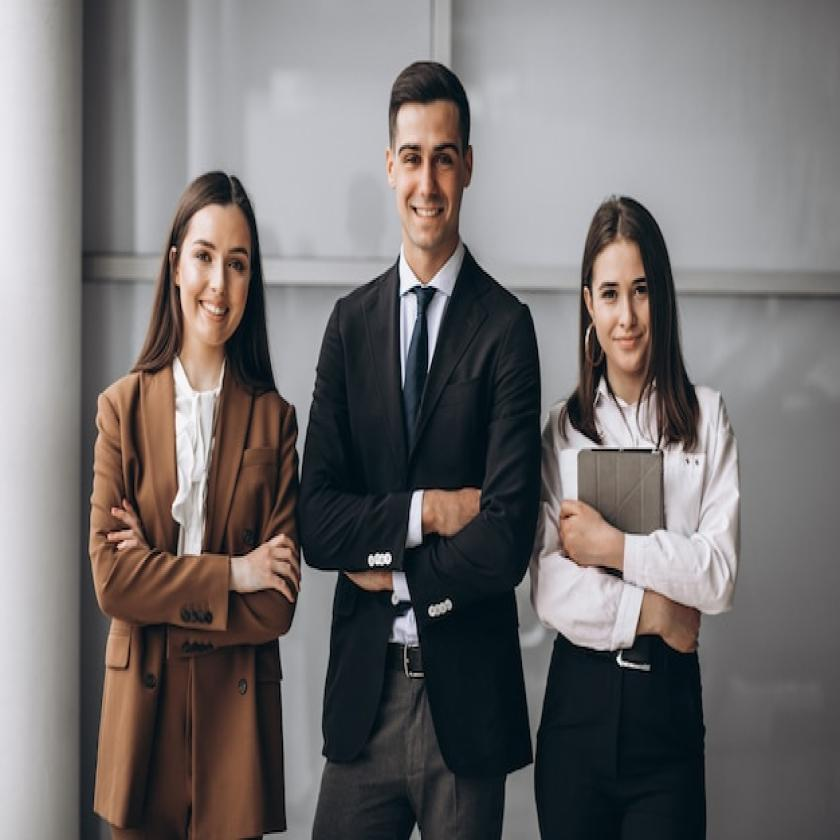Sin_casco: (388, 54, 476, 276), (168, 164, 262, 370), (586, 193, 672, 384)
